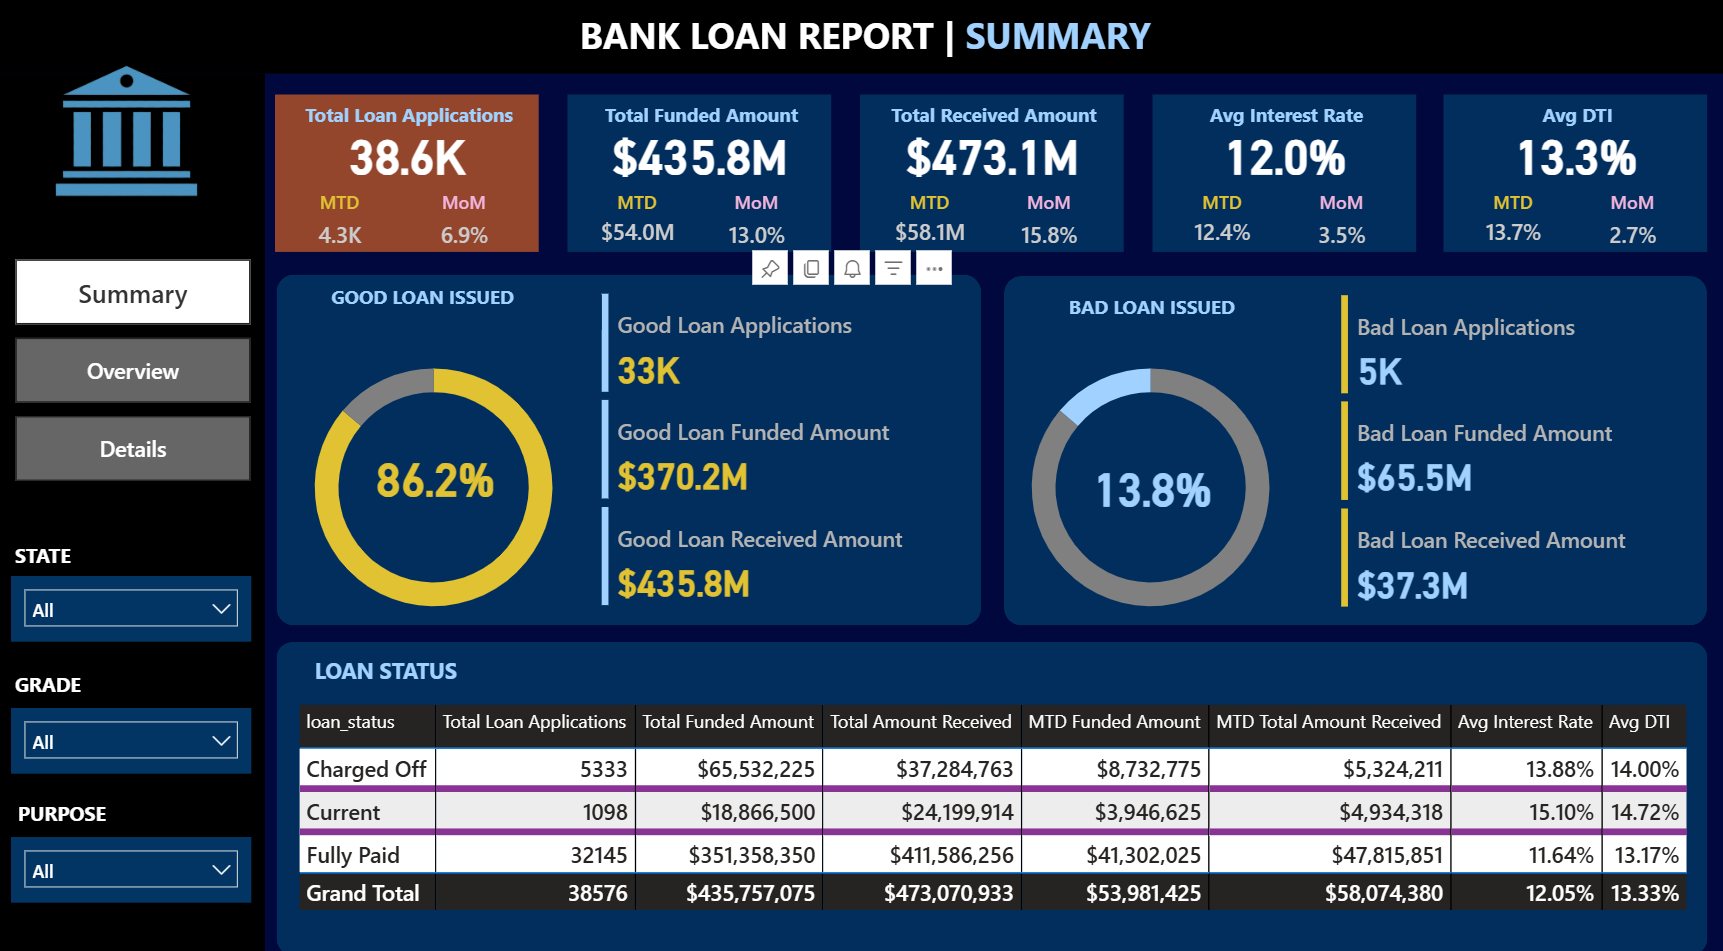

What the dashboard file says about the page in this screenshot:
{"tool":"powerbi","page":{"name":"Summary","canvas":[1280,720],"ordinal":0},"visuals":[{"type":"shape","box":[0,0,1279.5,54.5],"z":0},{"type":"shape","box":[204.4,69.7,195.3,116.6],"z":0,"group":"g1"},{"type":"shape","box":[420.9,69.7,195.3,116.6],"z":0,"group":"g2"},{"type":"shape","box":[637.5,69.7,195.3,116.6],"z":0,"group":"g3"},{"type":"shape","box":[854,69.7,195.3,116.6],"z":0,"group":"g4"},{"type":"shape","box":[1070.5,69.7,195.3,116.6],"z":0,"group":"g5"},{"type":"slicer","fields":{"Values":["financial_loan.address_state"]},"box":[9.1,427.5,178.3,48.9],"z":0,"group":"g8"},{"type":"slicer","fields":{"Values":["financial_loan.grade"]},"box":[9.1,523.9,178.3,48.9],"z":0,"group":"g7"},{"type":"slicer","fields":{"Values":["financial_loan.purpose"]},"box":[8.6,620.1,178.3,48.9],"z":0,"group":"g6"},{"type":"card","fields":{"Values":["financial_loan.Total Loan Applications"]},"box":[204.4,81.8,195.3,62.1],"z":1000,"group":"g1"},{"type":"card","fields":{"Values":["financial_loan.Total Funded Amount"]},"box":[420.9,81.8,195.3,62.1],"z":1000,"group":"g2"},{"type":"card","fields":{"Values":["financial_loan.Total Amount Received"]},"box":[637.5,81.8,195.3,62.1],"z":1000,"group":"g3"},{"type":"card","fields":{"Values":["financial_loan.Avg Interest Rate"]},"box":[854,81.8,195.3,62.1],"z":1000,"group":"g4"},{"type":"card","fields":{"Values":["financial_loan.Avg DTI"]},"box":[1070.5,81.8,195.3,62.1],"z":1000,"group":"g5"},{"type":"shape","box":[205.9,203.4,522,260],"z":1000},{"type":"textbox","box":[7.2,395.9,73.3,33.1],"z":1000,"group":"g8"},{"type":"textbox","box":[7.2,490.8,73.3,33.1],"z":1000,"group":"g7"},{"type":"textbox","box":[8.6,587.2,106,33.3],"z":1000,"group":"g6"},{"type":"shape","box":[0,54.6,197,665.8],"z":2000},{"type":"textbox","box":[216.5,69.7,174.1,33.3],"z":2000,"group":"g1"},{"type":"textbox","box":[433,69.7,174.1,33.3],"z":2000,"group":"g2"},{"type":"textbox","box":[649.6,69.7,174.1,33.3],"z":2000,"group":"g3"},{"type":"textbox","box":[866.1,69.7,174.1,33.3],"z":2000,"group":"g4"},{"type":"textbox","box":[1082.6,69.7,174.1,33.3],"z":2000,"group":"g5"},{"type":"card","title":"MTD","fields":{"Values":["financial_loan.MTD Loan Applications"]},"box":[221.1,139.4,62.1,53],"z":3000,"group":"g1"},{"type":"card","title":"MTD","fields":{"Values":["financial_loan.MTD Funded Amount"]},"box":[437.6,139.4,69.7,48.5],"z":3000,"group":"g2"},{"type":"card","title":"MTD","fields":{"Values":["financial_loan.MTD Total Amount Received"]},"box":[654.2,139.4,69.7,48.5],"z":3000,"group":"g3"},{"type":"card","title":"MTD","fields":{"Values":["financial_loan.MTD Avg Int Rate"]},"box":[870.7,139.4,69.7,48.5],"z":3000,"group":"g4"},{"type":"card","title":"MTD","fields":{"Values":["financial_loan.MTD Avg DTI"]},"box":[1087.2,139.4,69.7,48.5],"z":3000,"group":"g5"},{"type":"textbox","box":[227.1,204.4,174.1,33.3],"z":3000},{"type":"textbox","box":[417.6,1.9,447.9,52.9],"z":4000},{"type":"card","title":"MoM","fields":{"Values":["financial_loan.MoM Loan Applications"]},"box":[313.4,139.4,62.1,53],"z":4000,"group":"g1"},{"type":"card","title":"MoM","fields":{"Values":["financial_loan.MoM Total Funded Amount"]},"box":[529.9,139.4,62.1,53],"z":4000,"group":"g2"},{"type":"card","title":"MoM","fields":{"Values":["financial_loan.MoM Total Amount Received"]},"box":[746.5,139.4,62.1,53],"z":4000,"group":"g3"},{"type":"card","title":"MoM","fields":{"Values":["financial_loan.MoM Avg Int Rate"]},"box":[963,139.4,62.1,53],"z":4000,"group":"g4"},{"type":"card","title":"MoM","fields":{"Values":["financial_loan.MoM Avg DTI"]},"box":[1179.5,139.4,62.1,53],"z":4000,"group":"g5"},{"type":"card","fields":{"Values":["financial_loan.Good Loan %"]},"box":[257.4,321,130.2,62.1],"z":5000},{"type":"group","id":"g1","title":"Group 1","box":[204.4,69.7,195.3,122.7],"z":6000},{"type":"group","id":"g2","title":"Group 1","box":[420.9,69.7,195.3,122.7],"z":7000},{"type":"group","id":"g3","title":"Group 1","box":[637.5,69.7,195.3,122.7],"z":8000},{"type":"group","id":"g4","title":"Group 1","box":[854,69.7,195.3,122.7],"z":9000},{"type":"group","id":"g5","title":"Group 1","box":[1070.5,69.7,195.3,122.7],"z":10000},{"type":"donutChart","fields":{"Category":["financial_loan.Good vs Bad Loan"],"Y":["financial_loan.Total Loan Applications"]},"box":[196.8,245.3,249.8,230.2],"z":11000},{"type":"shape","box":[745,203.9,520.9,258.9],"z":12000},{"type":"cardVisual","fields":{"Data":["financial_loan.Good Loan Applications","financial_loan.Good Loan Funded Amount","financial_loan.Good Loan Received Amount"]},"box":[440.6,212,266.5,243.8],"z":13000},{"type":"card","fields":{"Values":["financial_loan.Bad Loan %"]},"box":[788.9,328.6,130.2,62.1],"z":14000},{"type":"donutChart","fields":{"Category":["financial_loan.Good vs Bad Loan"],"Y":["financial_loan.Total Loan Applications"]},"box":[728.3,245.3,249.8,230.2],"z":15000},{"type":"textbox","box":[772.2,212,163.5,33.3],"z":16000},{"type":"shape","box":[205.9,475.5,1059.9,231.7],"z":17000},{"type":"tableEx","fields":{"Values":["financial_loan.loan_status","financial_loan.Total Loan Applications","financial_loan.Total Funded Amount","financial_loan.Total Amount Received","financial_loan.MTD Funded Amount","financial_loan.MTD Total Amount Received","financial_loan.Avg Interest Rate","financial_loan.Avg DTI"]},"box":[216.5,516.3,1040.3,174.1],"z":18000},{"type":"cardVisual","fields":{"Data":["financial_loan.Bad Loan Applications","financial_loan.Bad Loan Funded Amount","financial_loan.Bad Loan Received Amount"]},"box":[988.8,213.5,266.5,243.8],"z":19000},{"type":"textbox","box":[228.7,480.3,162.5,33.1],"z":20000},{"type":"group","id":"g6","title":"Group 2","box":[8.6,587.2,178.3,81.8],"z":21000},{"type":"group","id":"g7","title":"Group 3","box":[7.2,490.8,180.2,82],"z":22000},{"type":"group","id":"g8","title":"Group 4","box":[7.2,395.9,180.2,80.5],"z":23000},{"type":"image","box":[1.5,28.8,186.2,136.3],"z":24000},{"type":"pageNavigator","box":[12.1,192.3,174.1,166.6],"z":25000}]}

Visuals, with their boxes in screenshot pixels (x1, y1, x2, y2), scaled from the page's 1280x720 canvas onto the 1723x951 screenshot:
shape: (left=0, top=0, right=1722, bottom=72)
shape: (left=275, top=92, right=538, bottom=246)
shape: (left=567, top=92, right=829, bottom=246)
shape: (left=858, top=92, right=1121, bottom=246)
shape: (left=1150, top=92, right=1412, bottom=246)
shape: (left=1441, top=92, right=1704, bottom=246)
slicer - financial_loan.address_state: (left=12, top=565, right=252, bottom=629)
slicer - financial_loan.grade: (left=12, top=692, right=252, bottom=757)
slicer - financial_loan.purpose: (left=12, top=819, right=252, bottom=884)
card - financial_loan.Total Loan Applications: (left=275, top=108, right=538, bottom=190)
card - financial_loan.Total Funded Amount: (left=567, top=108, right=829, bottom=190)
card - financial_loan.Total Amount Received: (left=858, top=108, right=1121, bottom=190)
card - financial_loan.Avg Interest Rate: (left=1150, top=108, right=1412, bottom=190)
card - financial_loan.Avg DTI: (left=1441, top=108, right=1704, bottom=190)
shape: (left=277, top=269, right=980, bottom=612)
textbox: (left=10, top=523, right=108, bottom=567)
textbox: (left=10, top=648, right=108, bottom=692)
textbox: (left=12, top=776, right=154, bottom=820)
shape: (left=0, top=72, right=265, bottom=950)
textbox: (left=291, top=92, right=526, bottom=136)
textbox: (left=583, top=92, right=817, bottom=136)
textbox: (left=874, top=92, right=1109, bottom=136)
textbox: (left=1166, top=92, right=1400, bottom=136)
textbox: (left=1457, top=92, right=1692, bottom=136)
"MTD" card: (left=298, top=184, right=381, bottom=254)
"MTD" card: (left=589, top=184, right=683, bottom=248)
"MTD" card: (left=881, top=184, right=974, bottom=248)
"MTD" card: (left=1172, top=184, right=1266, bottom=248)
"MTD" card: (left=1463, top=184, right=1557, bottom=248)
textbox: (left=306, top=270, right=540, bottom=314)
textbox: (left=562, top=3, right=1165, bottom=72)
"MoM" card: (left=422, top=184, right=505, bottom=254)
"MoM" card: (left=713, top=184, right=797, bottom=254)
"MoM" card: (left=1005, top=184, right=1088, bottom=254)
"MoM" card: (left=1296, top=184, right=1380, bottom=254)
"MoM" card: (left=1588, top=184, right=1671, bottom=254)
card - financial_loan.Good Loan %: (left=346, top=424, right=522, bottom=506)
"Group 1" group: (left=275, top=92, right=538, bottom=254)
"Group 1" group: (left=567, top=92, right=829, bottom=254)
"Group 1" group: (left=858, top=92, right=1121, bottom=254)
"Group 1" group: (left=1150, top=92, right=1412, bottom=254)
"Group 1" group: (left=1441, top=92, right=1704, bottom=254)
donutChart - financial_loan.Good vs Bad Loan x financial_loan.Total Loan Applications: (left=265, top=324, right=601, bottom=628)
shape: (left=1003, top=269, right=1704, bottom=611)
cardVisual - financial_loan.Good Loan Applications x financial_loan.Good Loan Funded Amount: (left=593, top=280, right=952, bottom=602)
card - financial_loan.Bad Loan %: (left=1062, top=434, right=1237, bottom=516)
donutChart - financial_loan.Good vs Bad Loan x financial_loan.Total Loan Applications: (left=980, top=324, right=1317, bottom=628)
textbox: (left=1039, top=280, right=1260, bottom=324)
shape: (left=277, top=628, right=1704, bottom=934)
tableEx - financial_loan.loan_status x financial_loan.Total Loan Applications: (left=291, top=682, right=1692, bottom=912)
cardVisual - financial_loan.Bad Loan Applications x financial_loan.Bad Loan Funded Amount: (left=1331, top=282, right=1690, bottom=604)
textbox: (left=308, top=634, right=527, bottom=678)
"Group 2" group: (left=12, top=776, right=252, bottom=884)
"Group 3" group: (left=10, top=648, right=252, bottom=757)
"Group 4" group: (left=10, top=523, right=252, bottom=629)
image: (left=2, top=38, right=253, bottom=218)
pageNavigator: (left=16, top=254, right=251, bottom=474)
